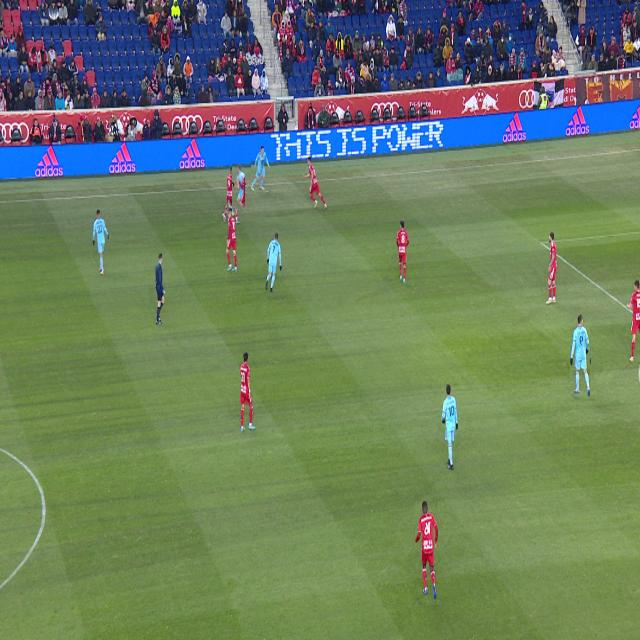player: (415, 502, 438, 599), (571, 315, 590, 396), (441, 384, 458, 470), (302, 157, 327, 210), (240, 352, 255, 432), (92, 210, 109, 275), (627, 280, 640, 362), (222, 166, 240, 223), (265, 233, 282, 292), (251, 147, 270, 191), (396, 221, 409, 284), (546, 232, 557, 304), (226, 209, 237, 271), (233, 165, 245, 208), (227, 200, 233, 214), (232, 208, 235, 216)
referee: (155, 253, 166, 324)
